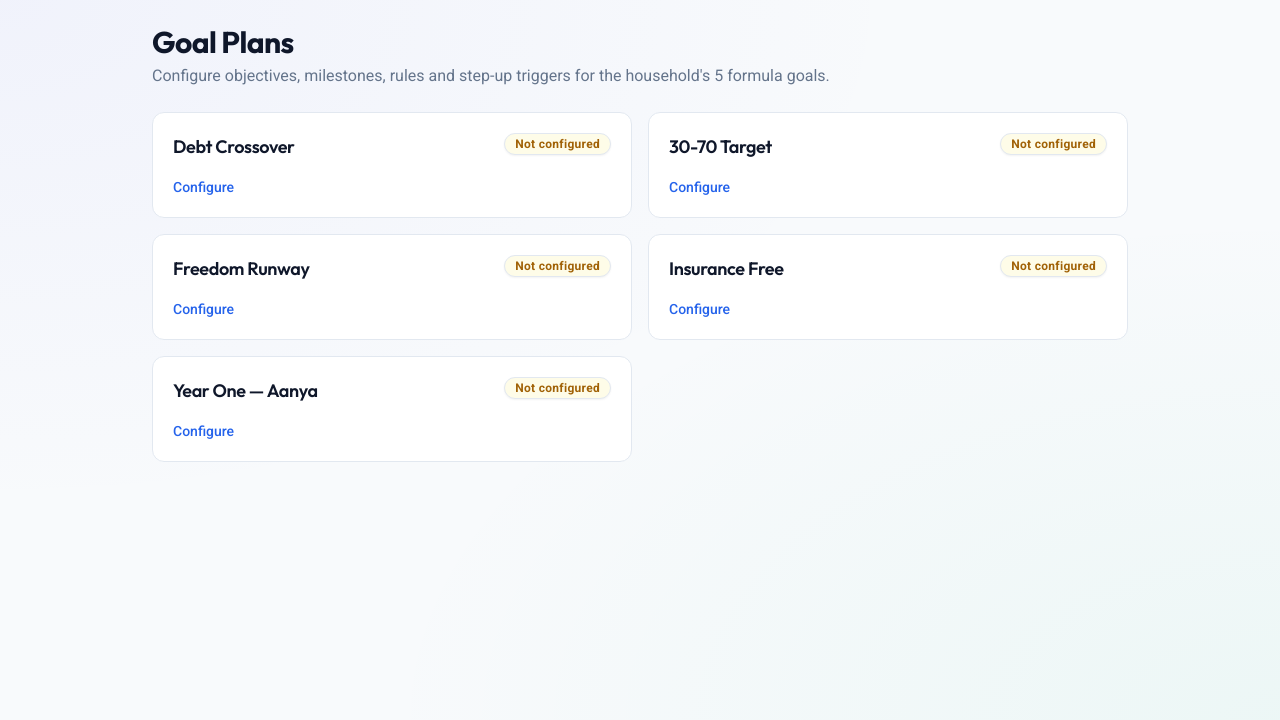
Scenario: GoalPlans page › requires an objective before creating a goal plan
Expected: the heading "Debt Crossover" is shown, [173, 133, 294, 161]
Click the button "Configure" below "Debt Crossover". click: (204, 187)
box: [173, 177, 234, 197]
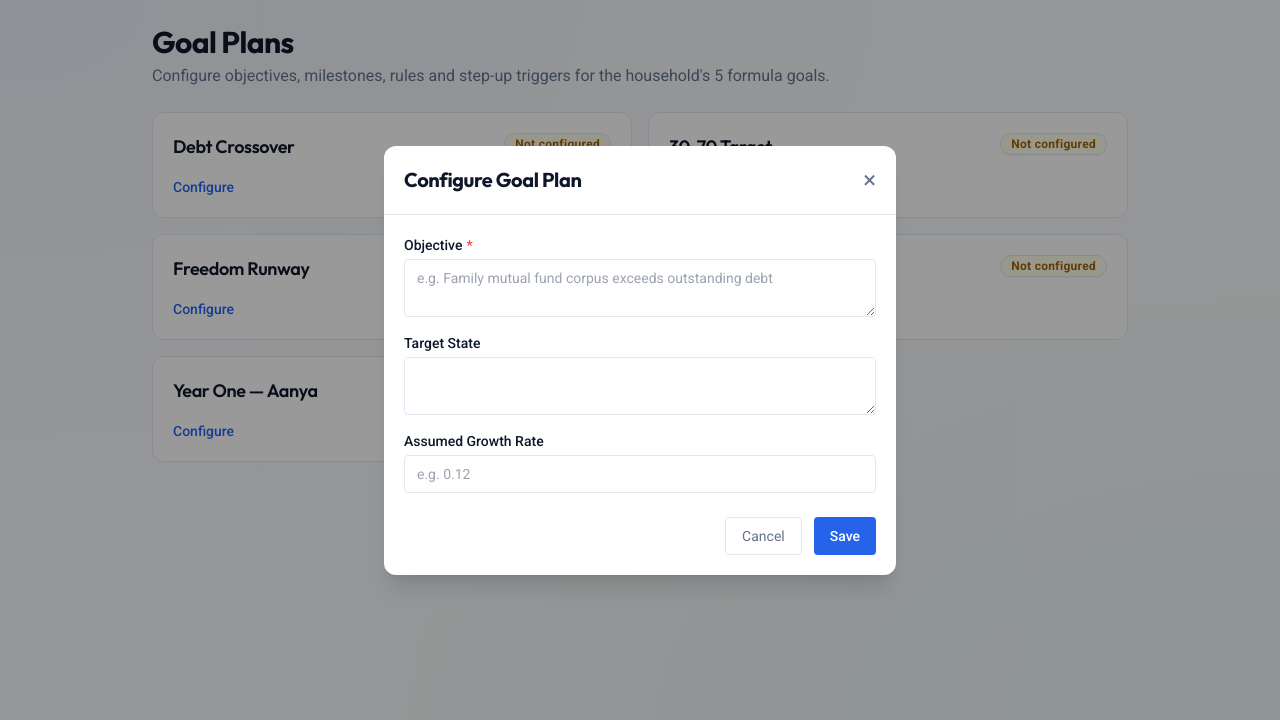
Result: the text box with placeholder "e.g. Family mutual fund corpus exceeds outstanding debt" is shown at [404, 258, 876, 316]
Click the button "Save". click: (845, 536)
box: [814, 516, 876, 554]
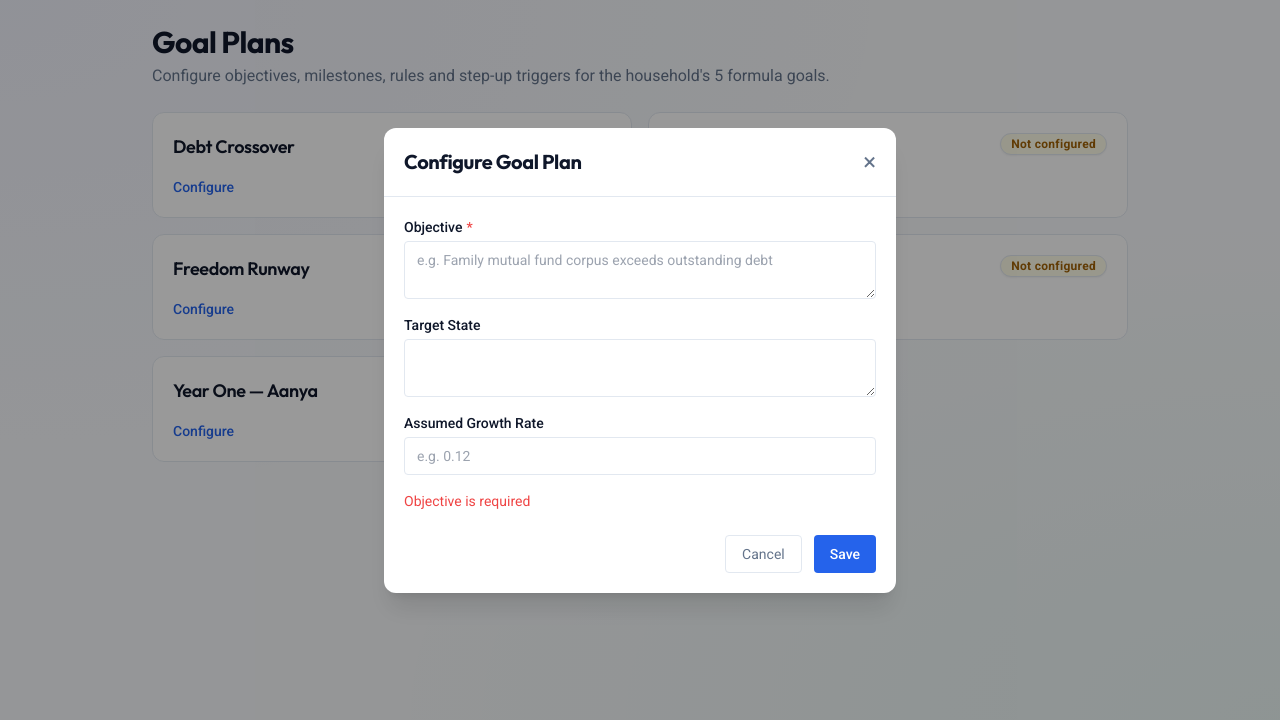
Result: the text "Objective is required" is shown at [404, 492, 530, 508]
